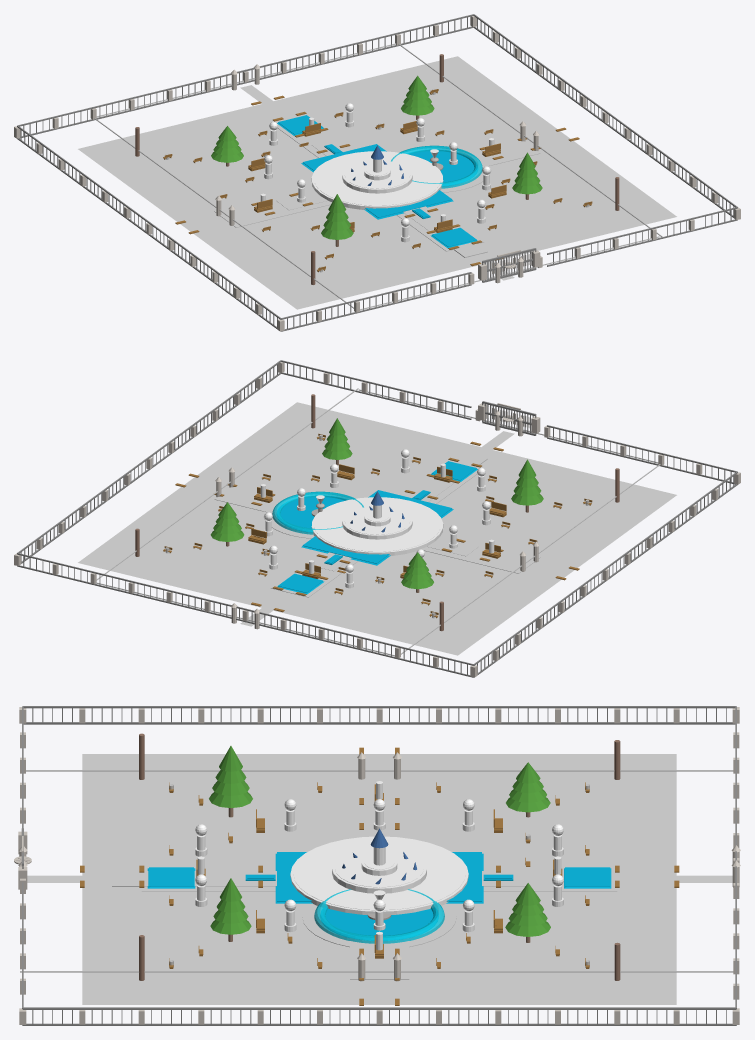
File: DACongVien.glb
3 views of the same model, one above another, from view 1: azimuth 30°, elevation 25°; view 2: azimuth 150°, elevation 25°; view 3: azimuth 270°, elevation 25° (orthographic). The views are drawn at different scales.
Visible parts, largest first — view 1: Ground, Garden_2, Garden_3, Garden_1, Garden_0, MainWater, MainPathHorizontal, MainPathVertical, MainPath_0.0_0.003, Pond, FountainWater_0_0, MiddleWater (+7 smaller); view 2: Ground, Garden_0, Garden_1, Garden_3, Garden_2, MainWater, MainPathHorizontal, MainPathVertical, MainPath_0.0_0.002, Pond, FountainWater_0_0, MiddleWater (+8 smaller); view 3: Ground, Garden_3, Garden_1, Garden_0, Garden_2, MainWater, MainPathHorizontal, MainPathVertical, Pond, FountainWater_0_0, MiddleWater, MainPath_0.0_0.002 (+13 smaller).
Boxes of the visible parts, x1,y1,x2,y2 form: Ground: (78, 56, 676, 309); Garden_2: (239, 224, 418, 296); Garden_3: (472, 165, 646, 241); Garden_1: (336, 69, 514, 142); Garden_0: (108, 124, 282, 200); MainWater: (314, 152, 440, 205); MainPathHorizontal: (214, 137, 540, 227); MainPathVertical: (274, 113, 483, 251); MainPath_0.0_0.003: (196, 161, 555, 205); Pond: (408, 150, 477, 185); FountainWater_0_0: (302, 144, 452, 217); MiddleWater: (344, 161, 410, 188); Ground: (78, 402, 676, 655); Garden_0: (336, 570, 515, 642); Garden_1: (108, 511, 282, 587); Garden_3: (240, 415, 418, 488); Garden_2: (472, 470, 646, 546); MainWater: (314, 498, 440, 551); MainPathHorizontal: (214, 483, 540, 573); MainPathVertical: (271, 459, 480, 597); MainPath_0.0_0.002: (199, 507, 558, 551); Pond: (277, 496, 346, 531); FountainWater_0_0: (302, 490, 452, 563); MiddleWater: (344, 507, 410, 534); Ground: (82, 754, 676, 1004); Garden_3: (112, 917, 290, 992); Garden_1: (468, 917, 646, 992); Garden_0: (468, 766, 646, 841); Garden_2: (112, 766, 290, 841); MainWater: (293, 837, 465, 910); MainPathHorizontal: (350, 778, 409, 979); MainPathVertical: (141, 866, 617, 891); Pond: (320, 907, 438, 940); FountainWater_0_0: (277, 852, 481, 901); MiddleWater: (335, 850, 423, 887); MainPath_0.0_0.002: (195, 801, 563, 957).
Bounding box in the file's own units: 121 × 14.15 × 122.
